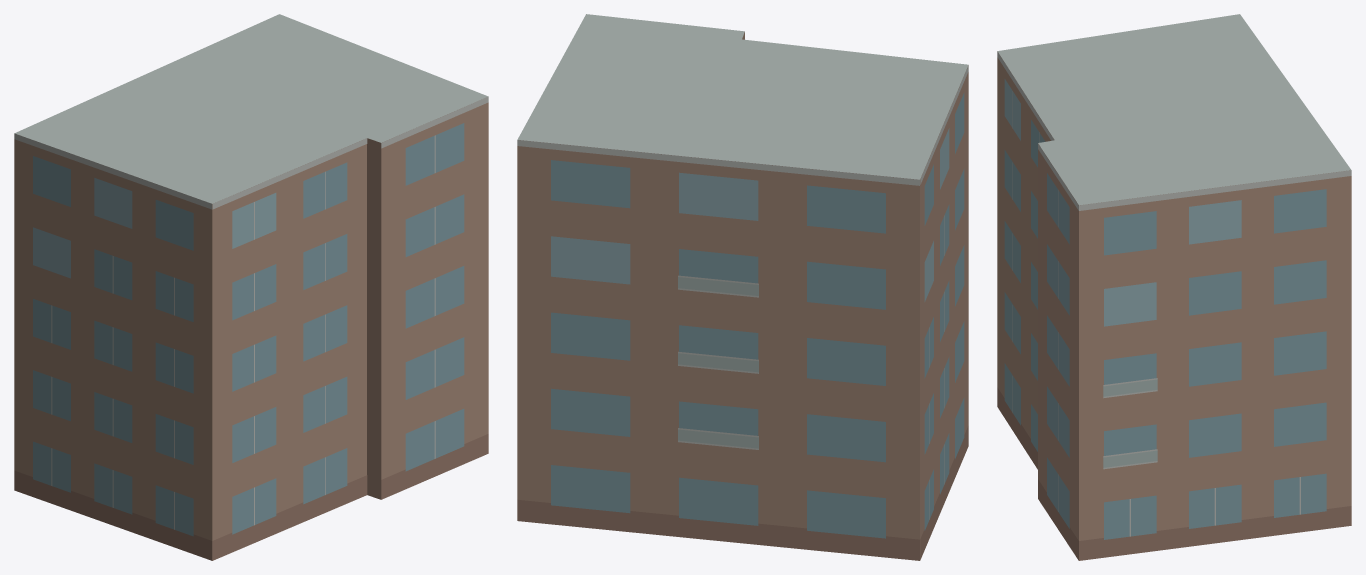
Rendered from survey-upis-33031614.glb.
3 renders of one model, left to right at view 1: azimuth 30°, elevation 25°; view 2: azimuth 150°, elevation 25°; view 3: azimuth 270°, elevation 25°, orthographic. The views are drawn at different scales.
Visible parts, largest first — view 1: survey-upis-33031614.tmp; view 2: survey-upis-33031614.tmp; view 3: survey-upis-33031614.tmp.
Part boxes in pixels (left/top/right/bottom): survey-upis-33031614.tmp: left=14, top=14, right=488, bottom=560; survey-upis-33031614.tmp: left=517, top=14, right=968, bottom=560; survey-upis-33031614.tmp: left=997, top=14, right=1351, bottom=560.
Size of the model in its own units: 17.31 by 15 by 13.55.
